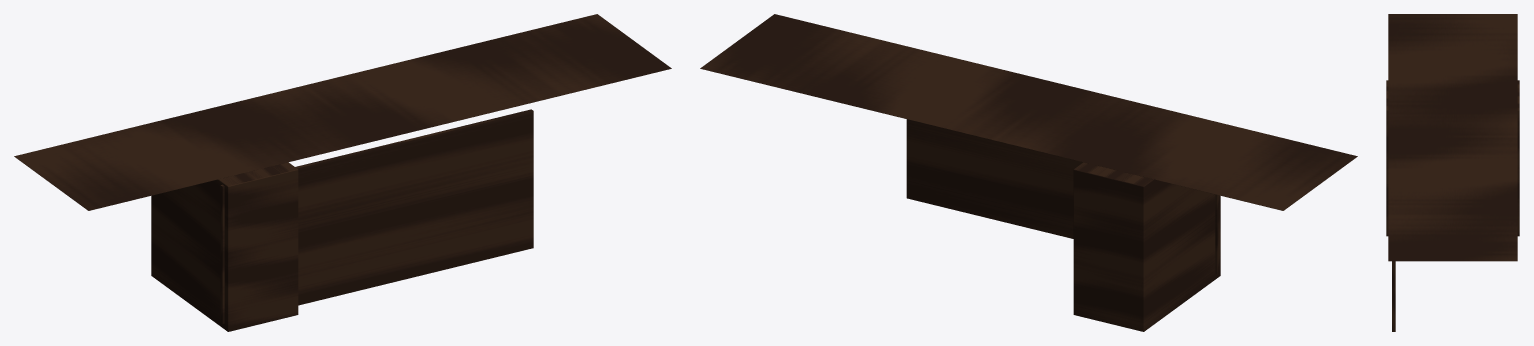
The model's file is desk_5_executive.fbx.
3 renders of one model, left to right at view 1: azimuth 30°, elevation 25°; view 2: azimuth 150°, elevation 25°; view 3: azimuth 270°, elevation 25°, orthographic. The views are drawn at different scales.
Visible parts, largest first — view 1: top, modesty, pedestal; view 2: top, pedestal, modesty; view 3: top, pedestal, modesty.
Part boxes in pixels (x1,y1,x2,y2): top: (14, 14, 671, 210); modesty: (220, 109, 533, 323); pedestal: (151, 162, 298, 331); top: (700, 14, 1357, 210); pedestal: (1073, 162, 1220, 331); modesty: (906, 119, 1219, 273); top: (1388, 14, 1517, 261); pedestal: (1386, 80, 1519, 236); modesty: (1392, 261, 1395, 331).
Bounding box in the file's own units: 289 × 73.06 × 66.
3 materials, 2 textured.
